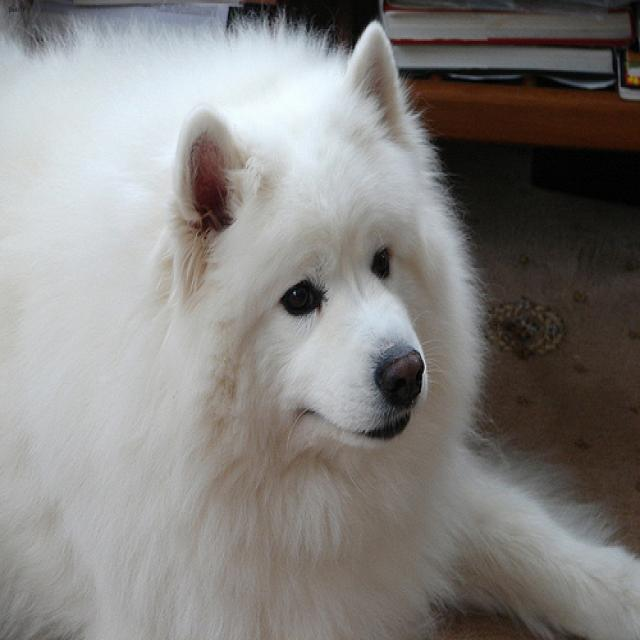dog-samoyed: (1, 5, 637, 637)
